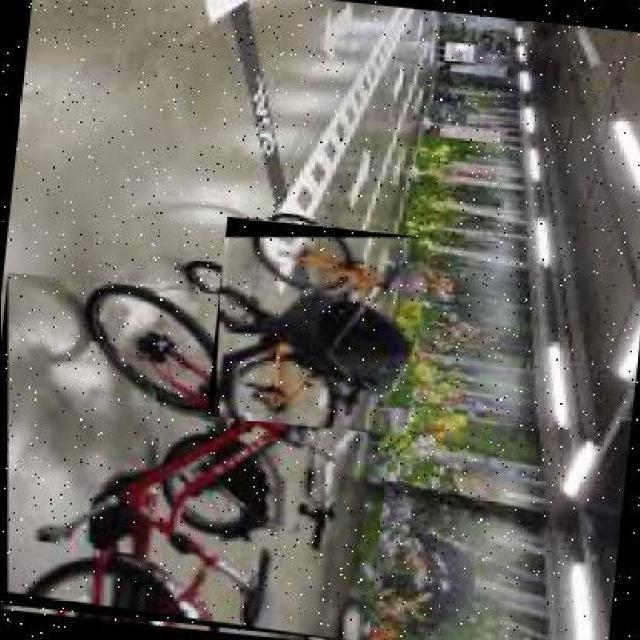bicycle: (2, 272, 404, 640), (205, 216, 427, 438)
